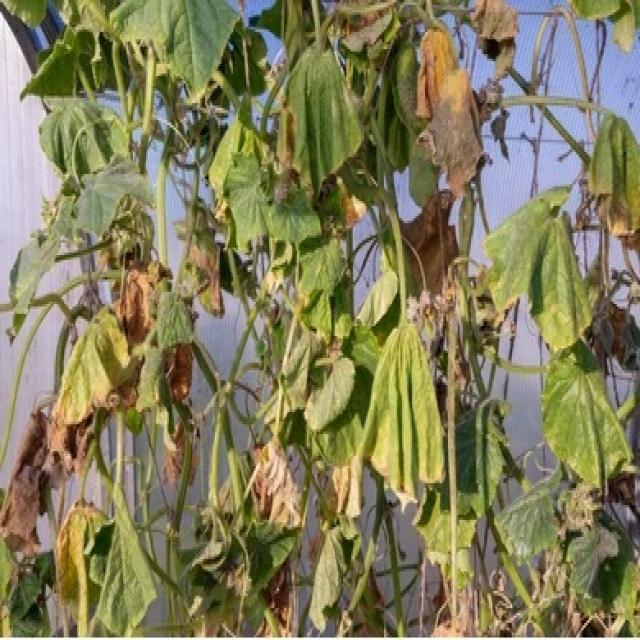Aphids: (230, 424, 362, 640), (106, 252, 222, 485), (5, 386, 115, 630), (362, 326, 463, 526), (426, 544, 638, 634), (254, 264, 361, 422), (406, 42, 499, 215), (318, 93, 406, 221), (481, 226, 568, 347), (259, 51, 319, 218), (120, 17, 211, 114), (575, 268, 640, 401), (322, 1, 404, 90), (579, 148, 640, 252), (392, 228, 473, 304), (464, 0, 532, 81), (87, 188, 169, 250), (544, 478, 616, 543), (578, 0, 640, 63)
